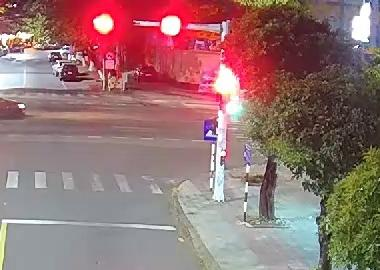red_light: (90, 10, 118, 35), (160, 12, 183, 39)
stop_line: (3, 219, 175, 230)
